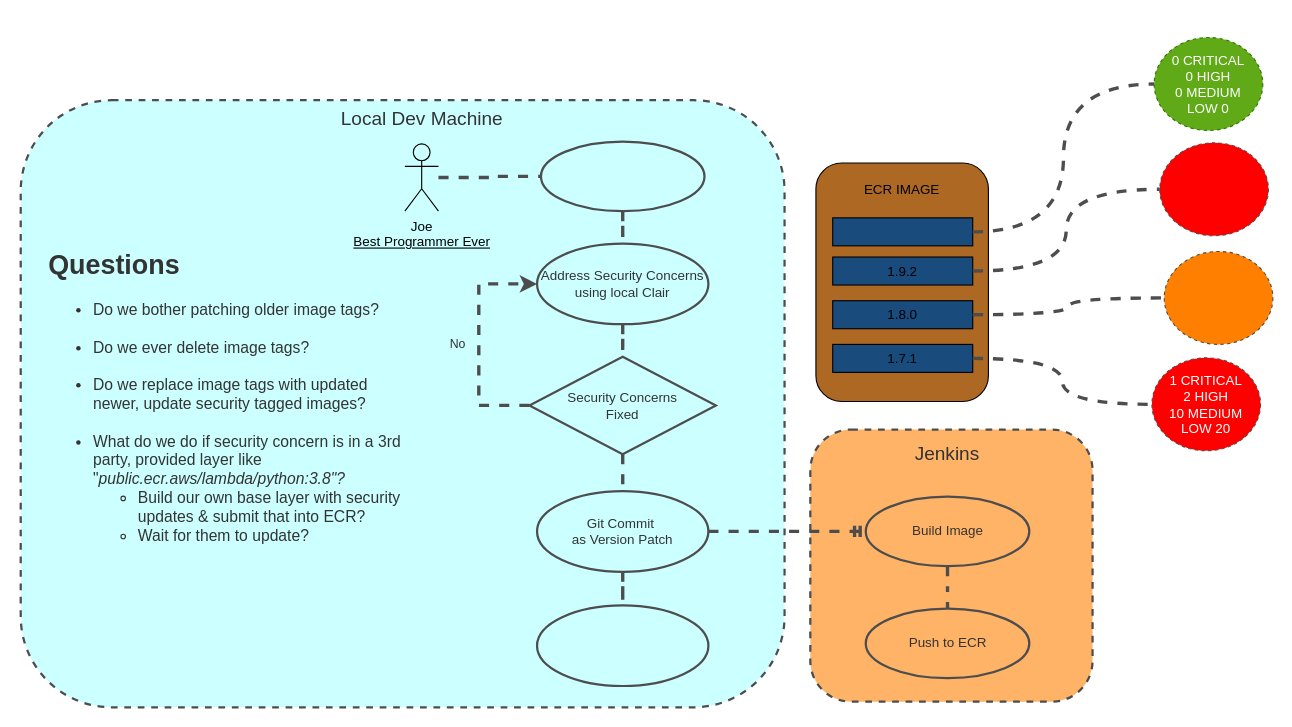
This 1292x727 diagram has some shape labels left out. Each missing label, with the centre of its shape:
0 CRITICAL 0 HIGH 10 MEDIUM LOW 20: the point at 1218,297
0 CRITICAL 1 HIGH 0 MEDIUM LOW 20: the point at 1213,189
2.0.0, Latest: the point at 902,231
Confirm Security Fixes in ECR: the point at 622,645
Git Checkout Project at affected ECR tag: the point at 622,176
